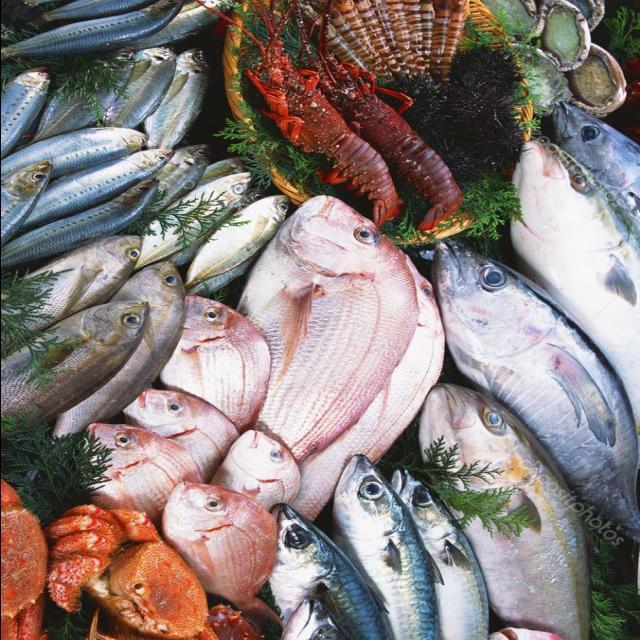fish: (432, 243, 639, 543), (239, 196, 417, 469), (509, 137, 639, 483), (418, 383, 586, 639), (58, 260, 184, 434), (332, 455, 436, 639), (0, 300, 148, 421), (387, 469, 487, 639), (268, 503, 391, 639), (161, 480, 275, 618), (159, 296, 269, 431), (0, 177, 157, 268), (21, 149, 169, 228), (88, 422, 202, 522), (26, 234, 140, 328), (549, 104, 639, 223), (185, 194, 287, 296), (123, 389, 237, 480), (0, 0, 181, 57), (141, 171, 250, 264), (0, 126, 144, 178), (211, 428, 298, 510), (143, 48, 206, 146), (104, 47, 174, 126), (134, 0, 230, 47), (0, 67, 48, 157), (0, 161, 49, 244), (147, 144, 207, 209), (41, 0, 150, 20)
